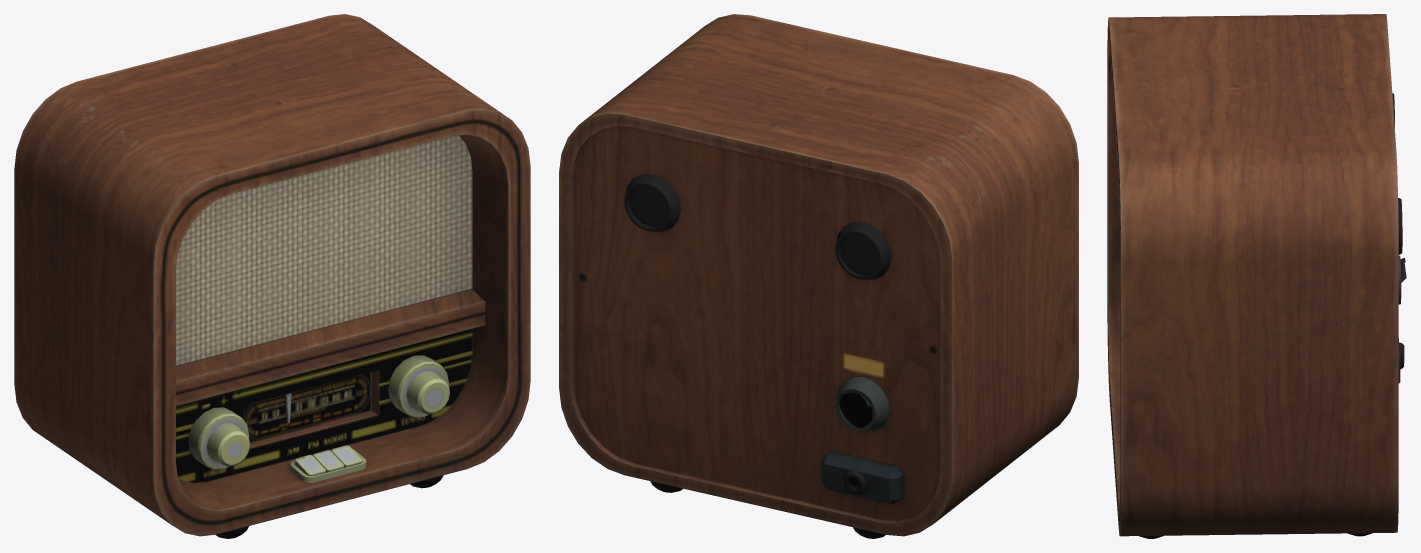
Rendered from radio cariñito.fbx.
The picture shows the model from 3 angles, left to right: view 1: azimuth 30°, elevation 25°; view 2: azimuth 150°, elevation 25°; view 3: azimuth 270°, elevation 25°; orthographic projection. The views are drawn at different scales.
Visible parts, largest first — view 1: Object_2; view 2: Object_2; view 3: Object_2.
Part boxes in pixels (left/top/right/bottom): Object_2: left=14, top=14, right=530, bottom=538; Object_2: left=559, top=14, right=1078, bottom=538; Object_2: left=1107, top=14, right=1406, bottom=538.
Size of the model in its own units: 2713 by 2516 by 1718.
